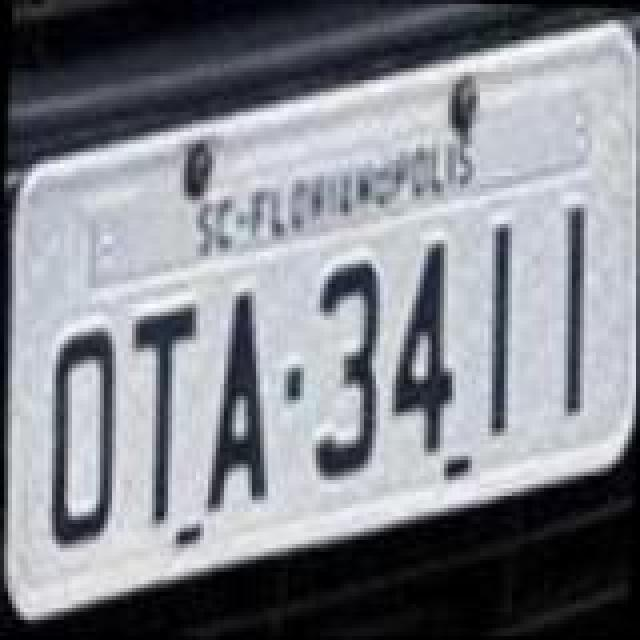1: (556, 200, 592, 416), (486, 222, 518, 442)
3: (310, 254, 386, 482)
4: (388, 232, 464, 460)
A: (200, 288, 276, 520)
O: (44, 324, 120, 556)
T: (124, 298, 200, 530)
